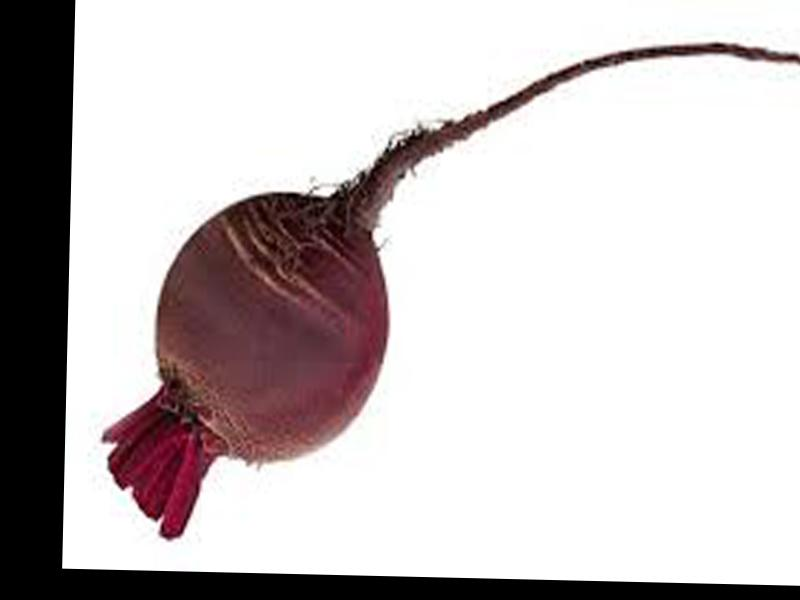Beet: (103, 28, 800, 555)
